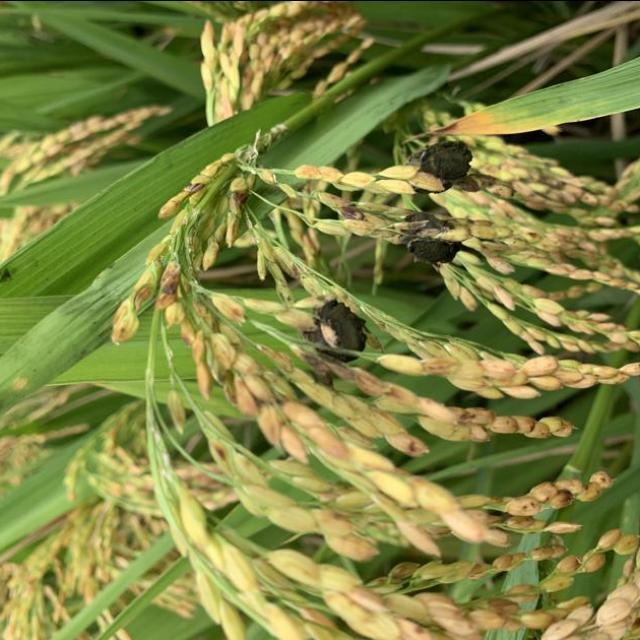Leaf_Scald: (302, 296, 370, 366), (402, 136, 474, 196), (395, 208, 462, 266)
